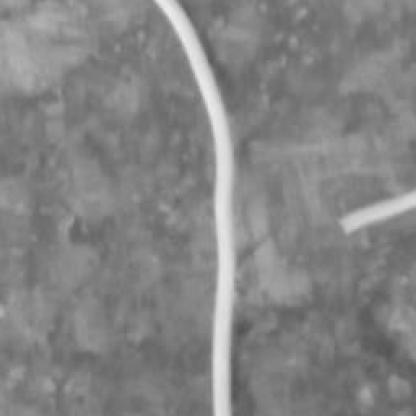wires: (152, 0, 234, 414)
